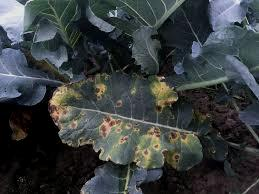Bok-Choy-Diseased: (53, 81, 197, 165)
